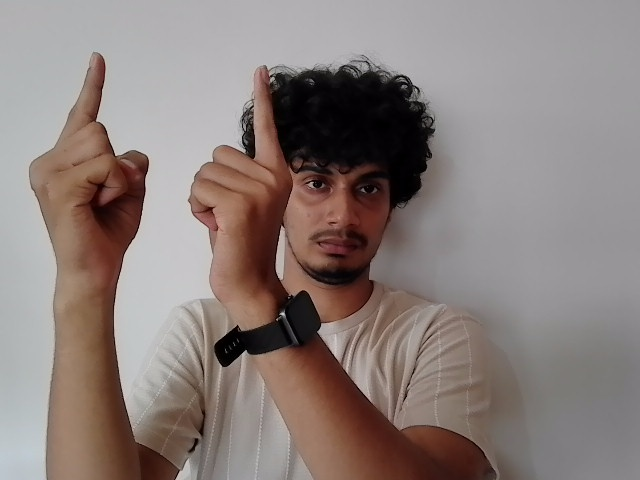play: (26, 52, 296, 303)
